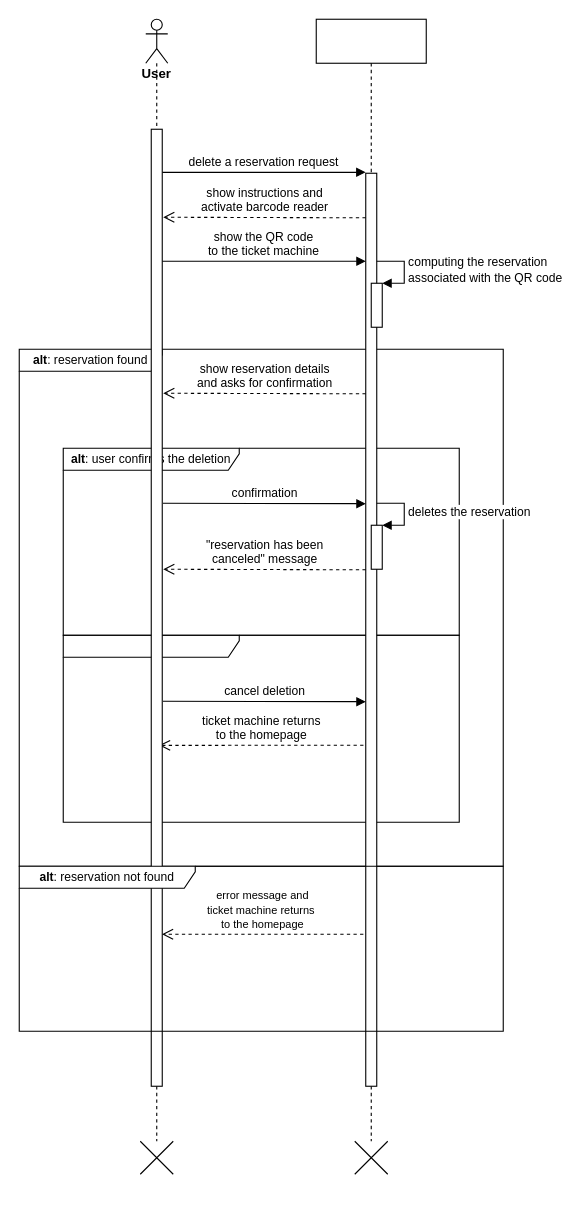
Some shapes in this 582 by 1205 pixel diagram are drawn without their labels. Here are the shapes that lost their labels. From the top down, the centre of each, then its label:
At point (370, 579): "CLup".
At point (260, 728): "alt : user cancels the deletion".
